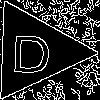D: (10, 26, 53, 74)
